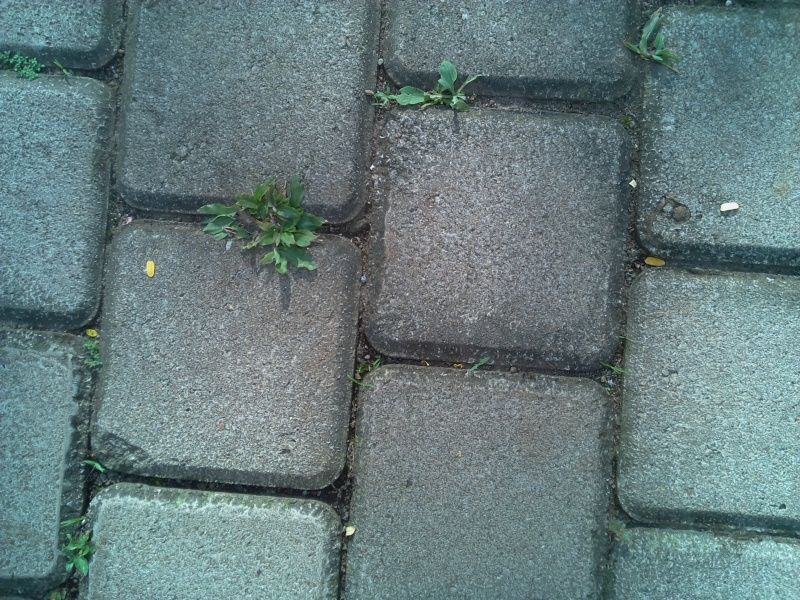Weed: (189, 179, 333, 282), (389, 60, 477, 115), (53, 511, 104, 579), (626, 12, 677, 66), (345, 346, 389, 390), (2, 37, 43, 84), (598, 351, 633, 391), (74, 333, 108, 371), (72, 448, 110, 481), (467, 349, 495, 385), (50, 51, 74, 85)
